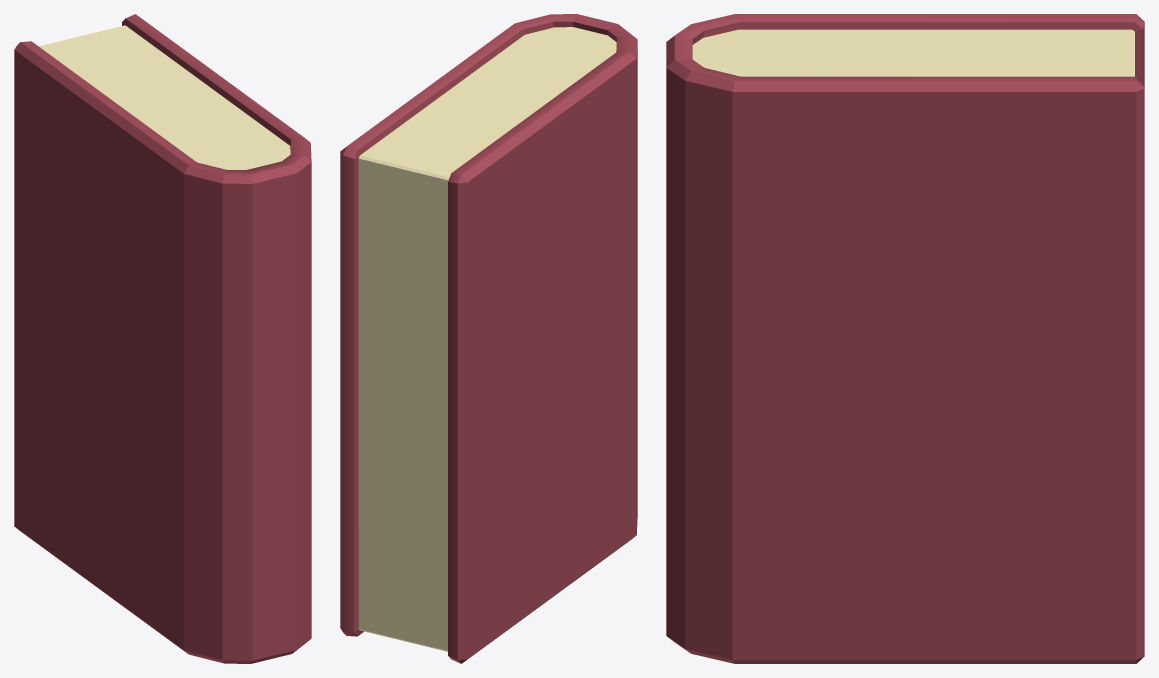
Rendered from book3.fbx.
3 views of the same model, side by side, from view 1: azimuth 30°, elevation 25°; view 2: azimuth 150°, elevation 25°; view 3: azimuth 270°, elevation 25° (orthographic). The views are drawn at different scales.
Parts seen in each view (by area): view 1: book3; view 2: book3; view 3: book3.
Part boxes in pixels (<box>): book3: <box>14,14,311,663</box>; book3: <box>340,14,637,663</box>; book3: <box>666,14,1144,663</box>.
Bounding box in the file's own units: 0.438 × 1.61 × 1.2.
